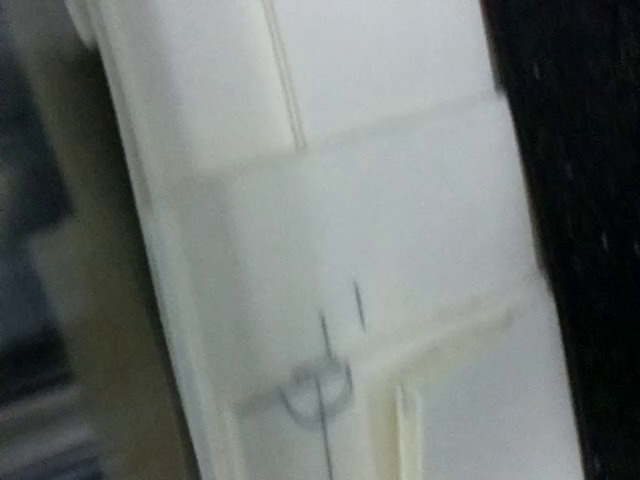not_sure: (236, 308, 374, 434)
